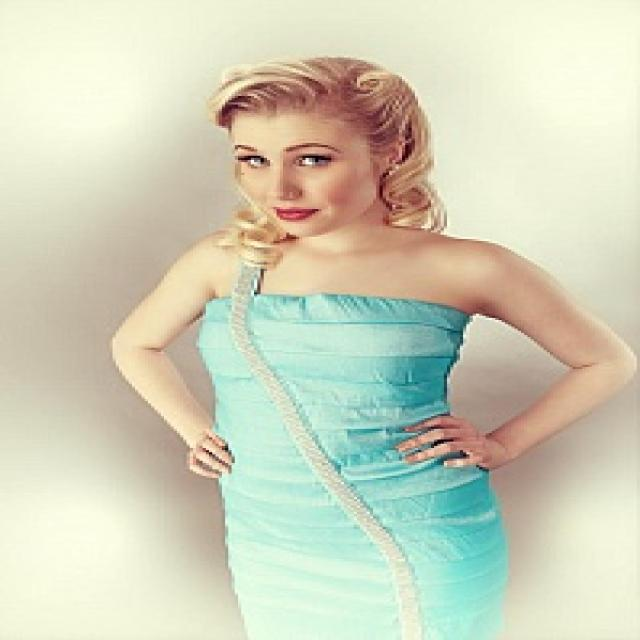Eyes: (230, 148, 344, 175)
